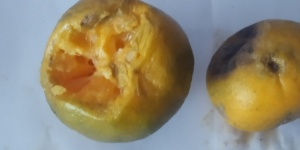BAD: (30, 2, 193, 146)
